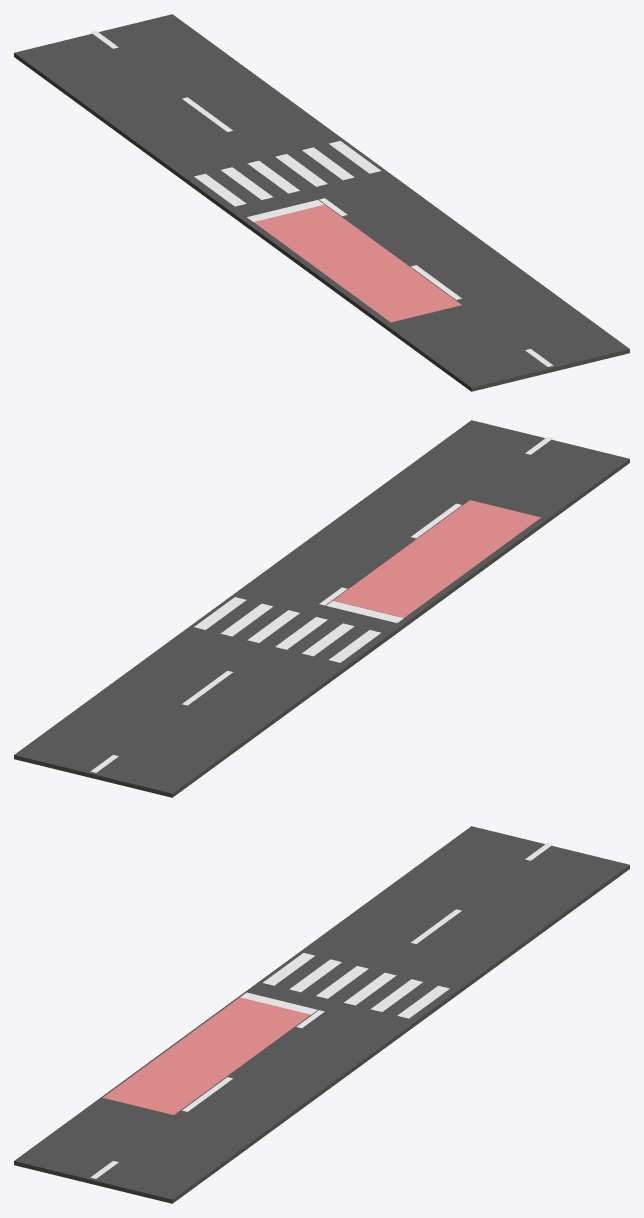
The model's file is road_stop_area.fbx.
3 renders of one model, top to bottom at view 1: azimuth 30°, elevation 25°; view 2: azimuth 150°, elevation 25°; view 3: azimuth 330°, elevation 25°, orthographic.
Visible parts, largest first — view 1: StopAreaRoad.002, StopAreaRoad.008; view 2: StopAreaRoad.002, StopAreaRoad.008, StopAreaRoad.003; view 3: StopAreaRoad.002, StopAreaRoad.008.
Part boxes in pixels (<box>): StopAreaRoad.002: <box>14,14,629,391</box>; StopAreaRoad.008: <box>254,204,461,322</box>; StopAreaRoad.002: <box>14,420,629,797</box>; StopAreaRoad.008: <box>333,500,540,617</box>; StopAreaRoad.003: <box>326,601,403,622</box>; StopAreaRoad.002: <box>14,826,629,1203</box>; StopAreaRoad.008: <box>103,997,310,1114</box>.
Bounding box in the file's own units: 4000 × 160 × 20000.
